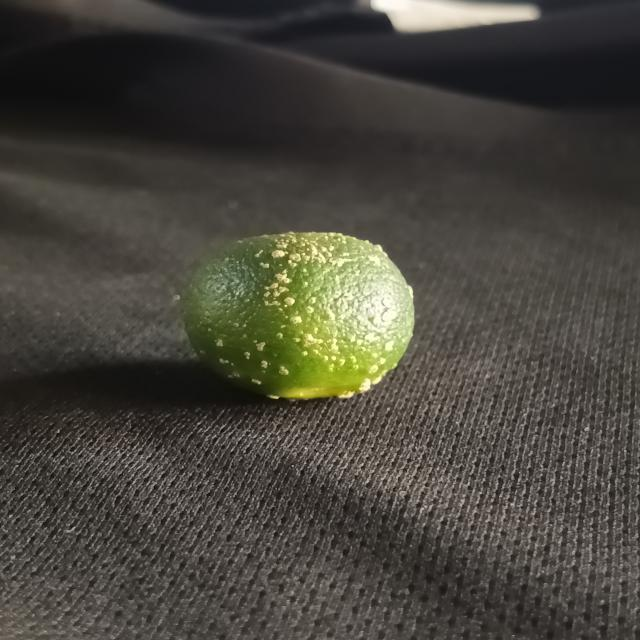scab: (169, 225, 422, 401)
